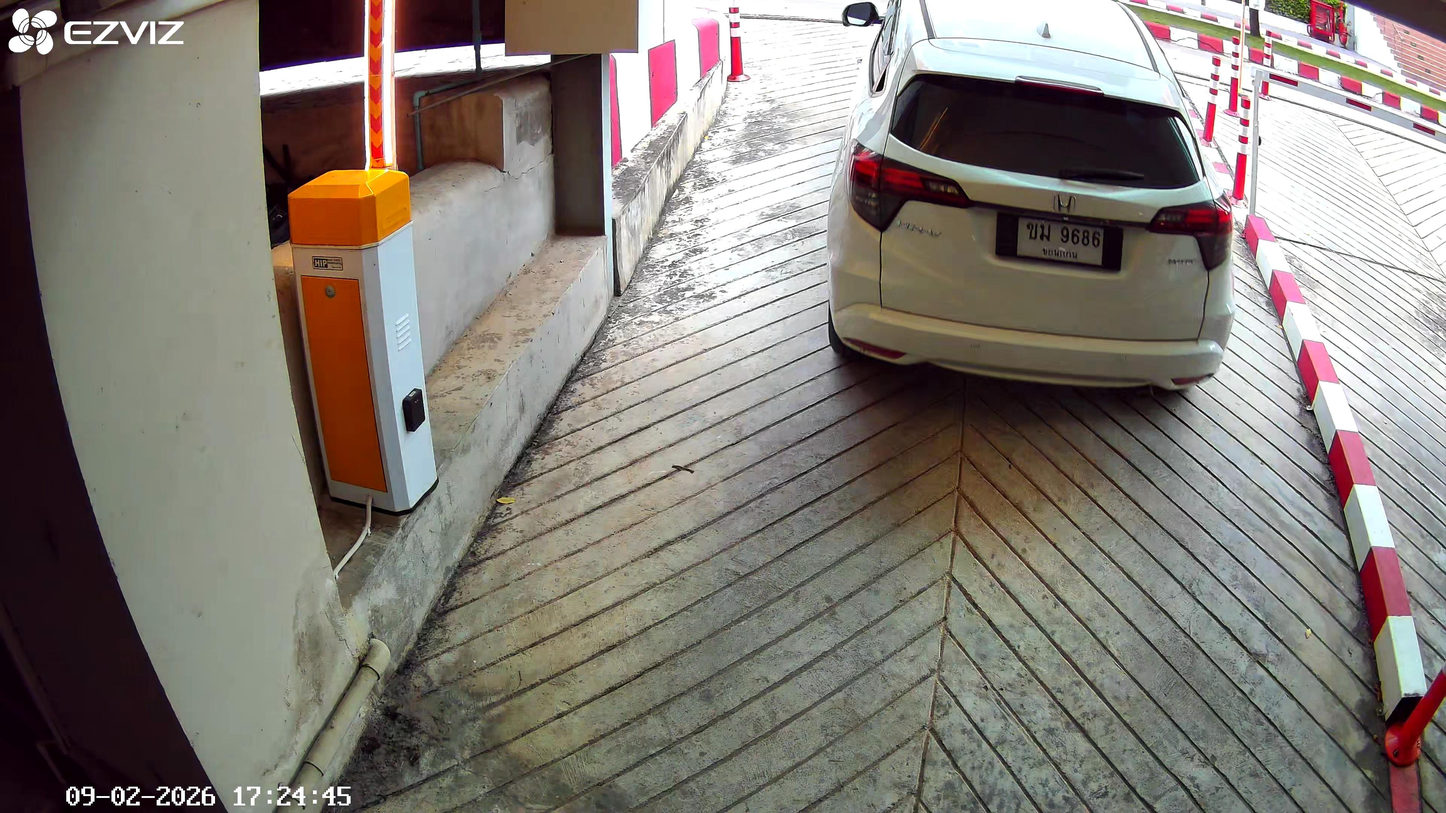car: (824, 3, 1240, 403)
license-plate: (1012, 210, 1108, 271)
